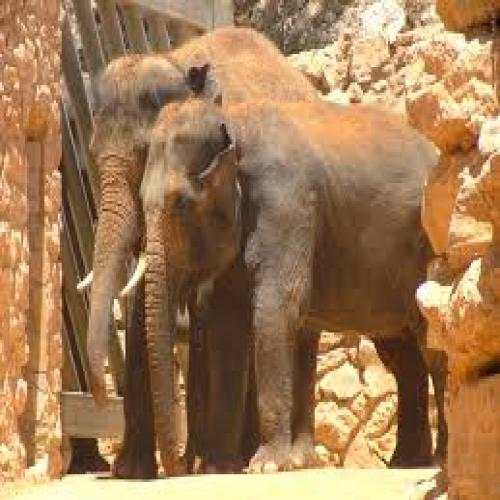asian_elephant-endangered: (133, 95, 448, 474), (78, 25, 315, 472)
